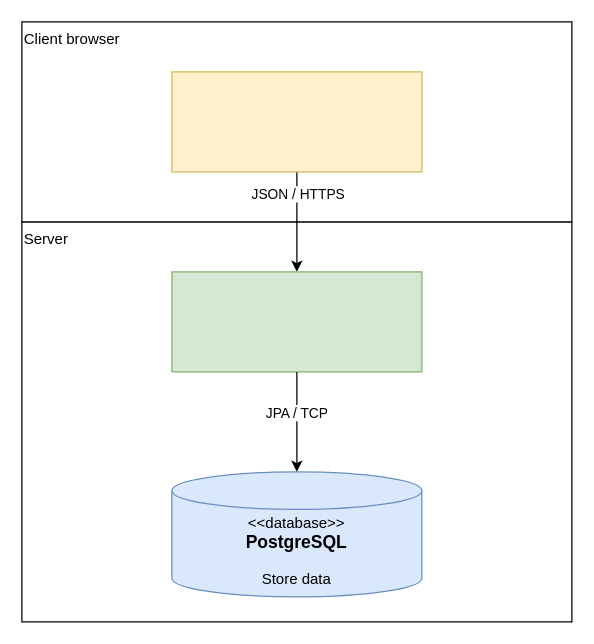
Some shapes in this 594 by 644 pixel diagram are drawn without their labels. Here are the shapes that lost their labels. From the top down, the centre of each, then its label:
At point (296, 121): "<<React + HTML + CSS>> User Interface Presentation Presentation + Business logic".
At point (296, 321): "<<Spring Boot + Java>> Back end Business logic CRUD over HTTP + Validation".
